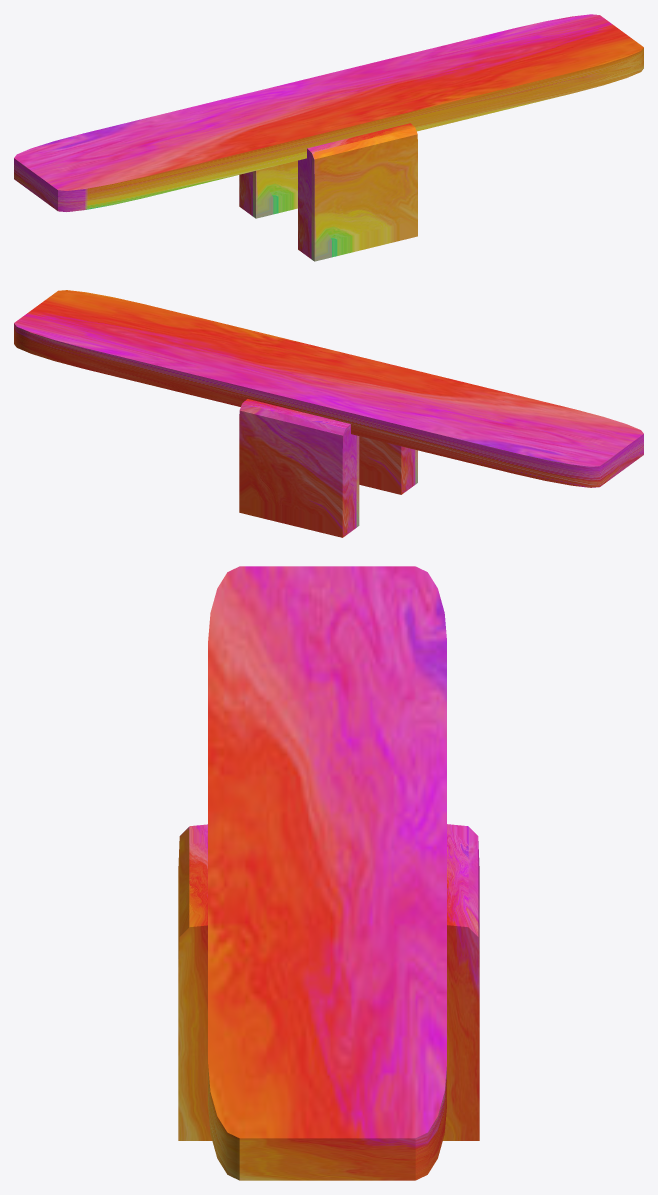
File: seesaw.fbx
The picture shows the model from 3 angles, top to bottom: view 1: azimuth 30°, elevation 25°; view 2: azimuth 150°, elevation 25°; view 3: azimuth 270°, elevation 25°; orthographic projection. The views are drawn at different scales.
Parts seen in each view (by area): view 1: Top, Base; view 2: Top, Base; view 3: Top, Base.
Part boxes in pixels (x1,y1,x2,y2): Top: (14,14,643,211); Base: (239,123,417,261); Top: (14,290,643,487); Base: (239,399,417,537); Top: (208,566,446,1180); Base: (178,824,479,1140).
Size of the model in its own units: 1132 by 220 by 252.
2 materials, 2 textured.
